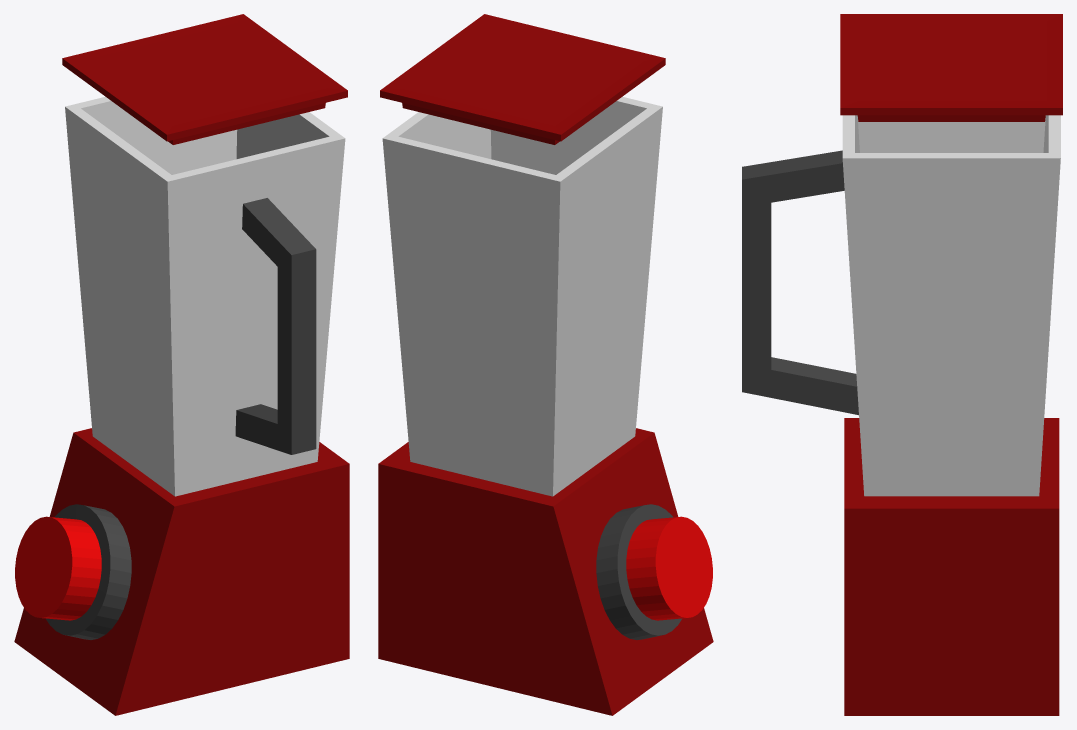
Rendered from blender (1).fbx.
The picture shows the model from 3 angles, left to right: view 1: azimuth 30°, elevation 25°; view 2: azimuth 150°, elevation 25°; view 3: azimuth 270°, elevation 25°; orthographic projection. The views are drawn at different scales.
Visible parts, largest first — view 1: BlenderCup, BlenderBase, BlenderTop, BlenderHandle, Button, ButtonBase; view 2: BlenderCup, BlenderBase, BlenderTop, Button, ButtonBase; view 3: BlenderCup, BlenderBase, BlenderTop, BlenderHandle.
Part boxes in pixels (bbox=[...]): BlenderCup: bbox=[65, 96, 345, 496]; BlenderBase: bbox=[14, 428, 349, 715]; BlenderTop: bbox=[62, 14, 347, 144]; BlenderHandle: bbox=[235, 198, 316, 454]; Button: bbox=[15, 516, 101, 620]; ButtonBase: bbox=[45, 504, 131, 639]; BlenderCup: bbox=[382, 96, 662, 496]; BlenderBase: bbox=[378, 428, 713, 715]; BlenderTop: bbox=[380, 14, 665, 144]; Button: bbox=[626, 516, 712, 620]; ButtonBase: bbox=[596, 504, 682, 639]; BlenderCup: bbox=[842, 115, 1060, 496]; BlenderBase: bbox=[844, 418, 1059, 715]; BlenderTop: bbox=[840, 14, 1062, 121]; BlenderHandle: bbox=[742, 150, 858, 415].
Size of the model in its own units: 436 by 884 by 424.
